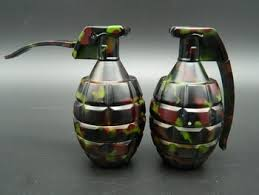e1: (4, 25, 146, 165), (148, 25, 234, 168)
